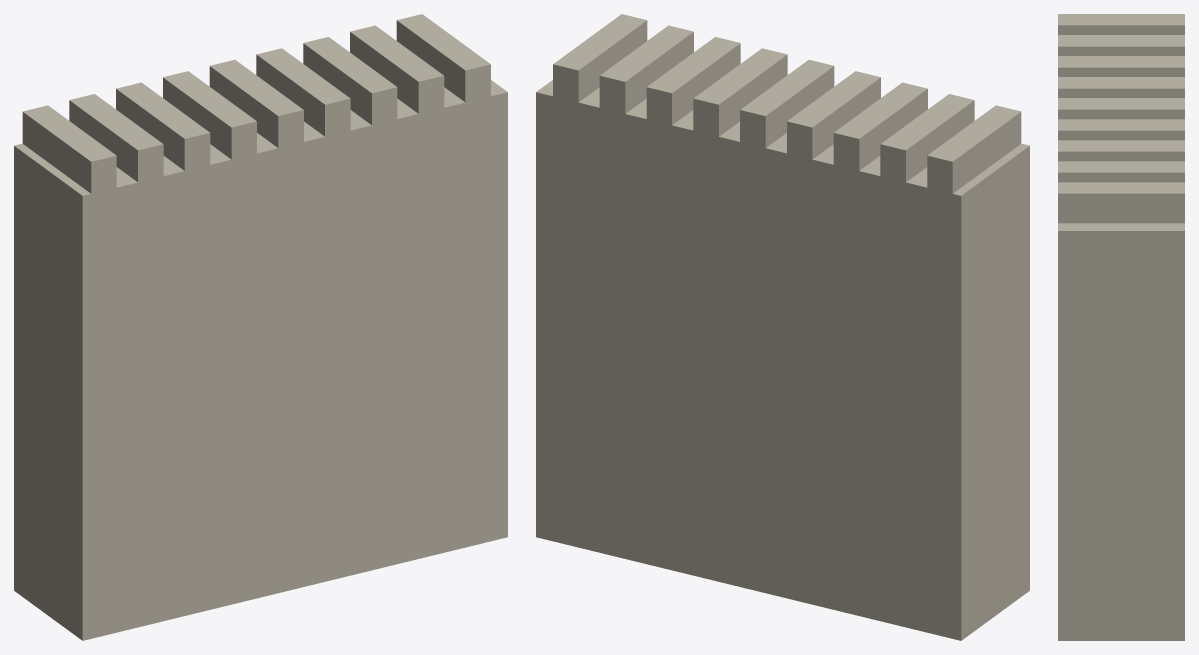
File: iz3_historic_wall_03.glb
3 views of the same model, side by side, from view 1: azimuth 30°, elevation 25°; view 2: azimuth 150°, elevation 25°; view 3: azimuth 270°, elevation 25° (orthographic). The views are drawn at different scales.
Parts seen in each view (by area): view 1: wall, merlon (×9); view 2: wall, merlon (×9); view 3: wall, merlon (×9).
Part boxes in pixels (x1=…): wall: x1=14, y1=80, x2=507, y2=640; merlon (×9): x1=22, y1=14, x2=490, y2=193; wall: x1=536, y1=80, x2=1029, y2=640; merlon (×9): x1=553, y1=14, x2=1021, y2=193; wall: x1=1058, y1=223, x2=1184, y2=640; merlon (×9): x1=1058, y1=14, x2=1184, y2=223.
Bounding box in the file's own units: 5 × 5.36 × 1.4.
